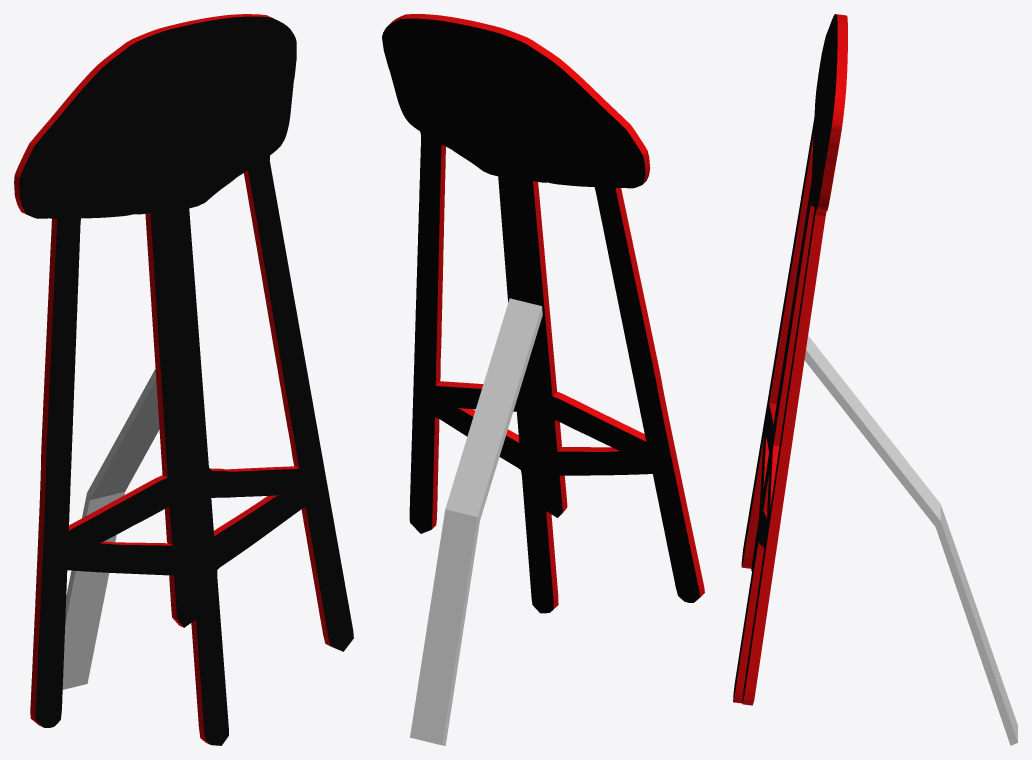
Rendered from tall chair cardboard.fbx.
The picture shows the model from 3 angles, left to right: view 1: azimuth 30°, elevation 25°; view 2: azimuth 150°, elevation 25°; view 3: azimuth 270°, elevation 25°; orthographic projection. The views are drawn at different scales.
Visible parts, largest first — view 1: path1.004, Plane; view 2: path1.004, Plane; view 3: path1.004, Plane.
Boxes of the visible parts, x1=… form: path1.004: x1=14, y1=14, x2=353, y2=745; Plane: x1=62, y1=369, x2=159, y2=689; path1.004: x1=382, y1=14, x2=704, y2=613; Plane: x1=410, y1=298, x2=542, y2=745; path1.004: x1=733, y1=14, x2=847, y2=705; Plane: x1=804, y1=335, x2=1017, y2=745.
Size of the model in its own units: 1275 by 2752 by 992.
